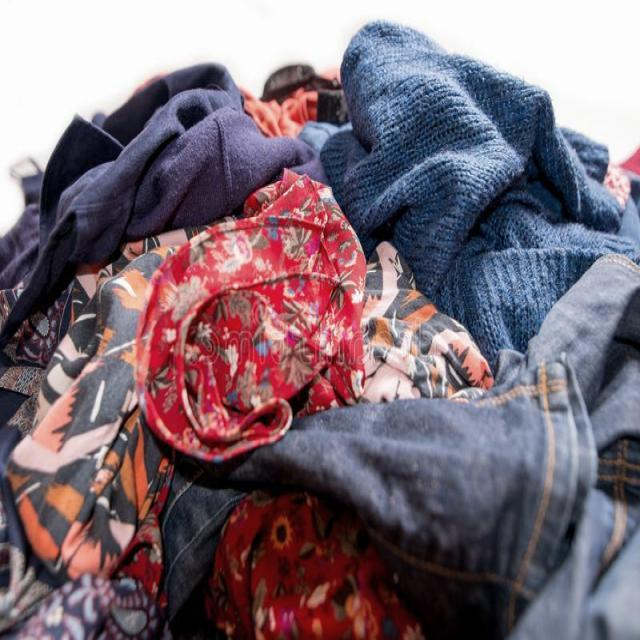clothes: (14, 92, 624, 635)
